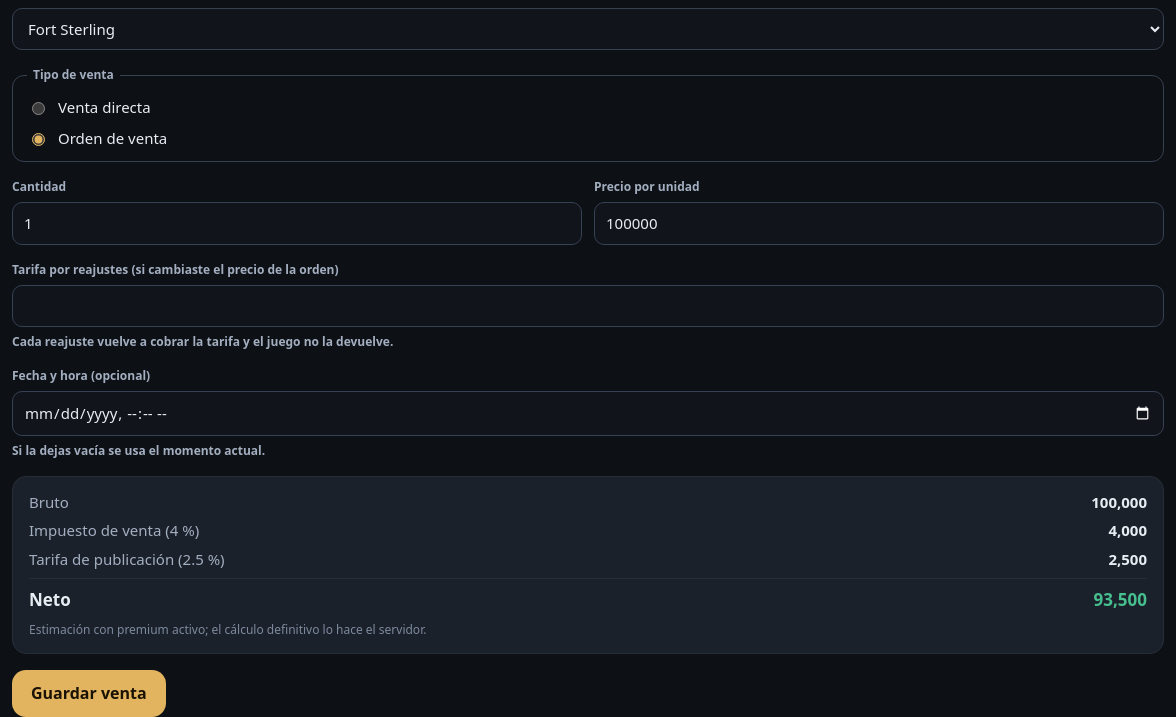
Test: FormularioVenta › guarda con lo escrito, avisa y cierra
The width and height of the screenshot is (1176, 717).
(page scrolled)
Click the button "Guardar venta". click: (89, 693)
box: [12, 670, 166, 716]
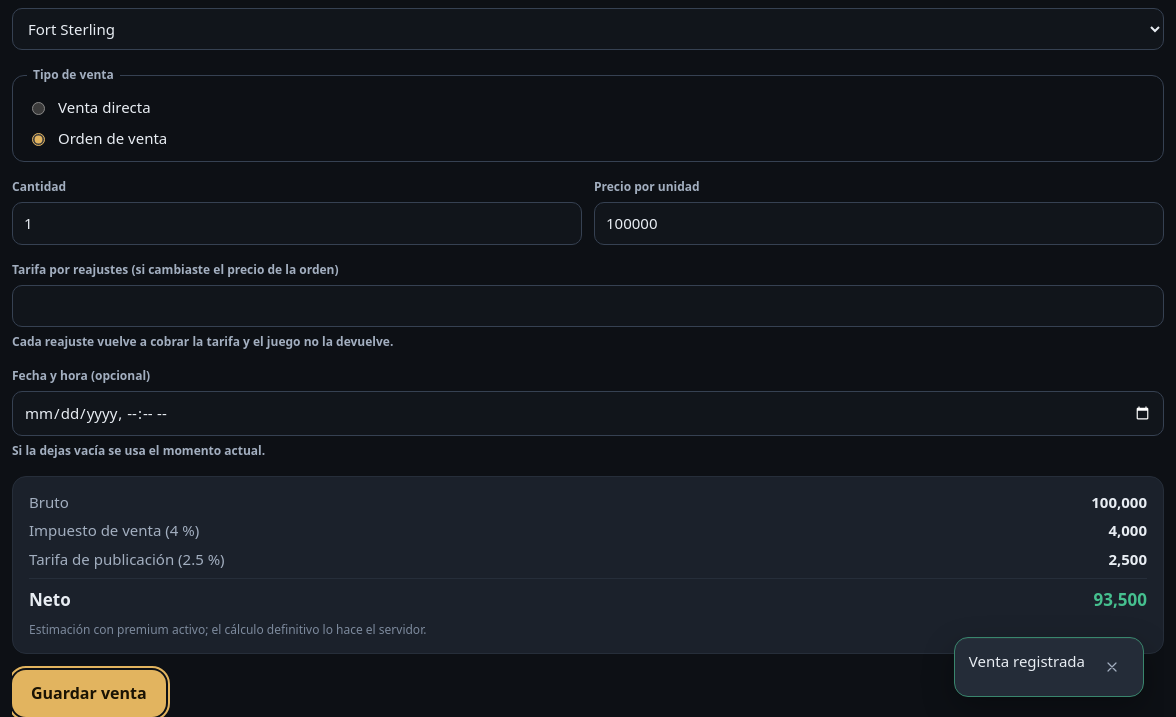
Result: the text "Venta registrada" is shown at [969, 650, 1085, 672]
